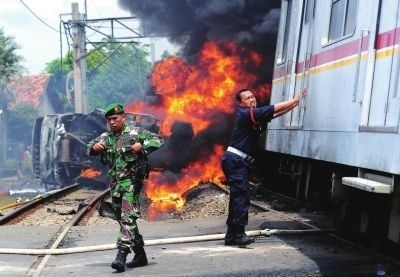fire: (141, 35, 266, 221)
